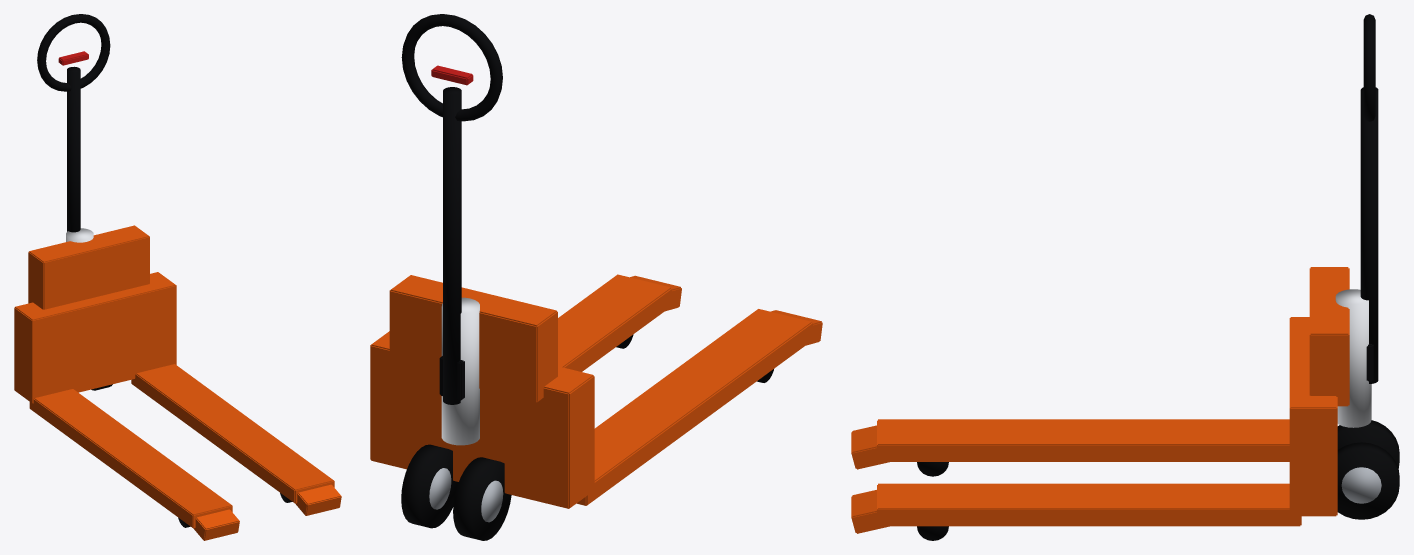
Rendered from pallet_jack.glb.
3 views of the same model, side by side, from view 1: azimuth 30°, elevation 25°; view 2: azimuth 150°, elevation 25°; view 3: azimuth 270°, elevation 25° (orthographic). The views are drawn at different scales.
Parts seen in each view (by area): view 1: Fork_Orange, PC_Black; view 2: Fork_Orange, PC_Black, Van_Tire, PC_Chrome, Van_Rim; view 3: Fork_Orange, PC_Black, Van_Tire, PC_Chrome, Van_Rim.
Boxes of the visible parts, x1,y1,x2,y2 form: Fork_Orange: (14,225,341,540); PC_Black: (37,14,110,232); Fork_Orange: (370,274,822,508); PC_Black: (401,14,502,404); Van_Tire: (401,334,773,540); PC_Chrome: (441,297,479,445); Van_Rim: (429,468,503,522); Fork_Orange: (851,267,1349,533); PC_Black: (1360,14,1378,383); Van_Tire: (917,420,1399,540); PC_Chrome: (1335,289,1371,427); Van_Rim: (1341,467,1381,503).
Size of the model in its own units: 0.54 by 1.34 by 1.37.
